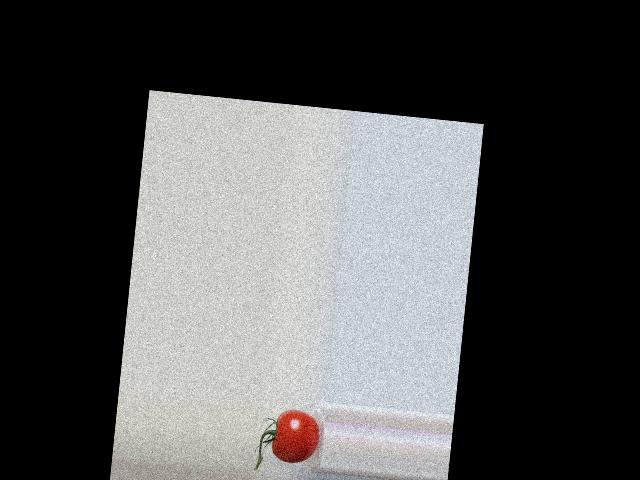tomato: (270, 407, 321, 465)
